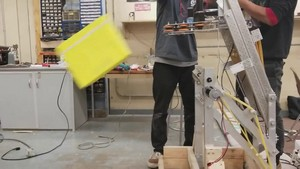cube: (52, 16, 131, 88)
